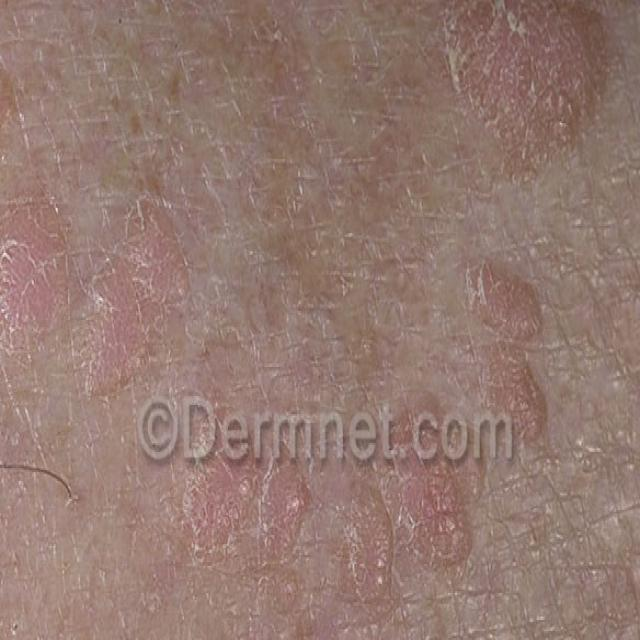Warts: (178, 400, 472, 619), (0, 47, 187, 365), (433, 7, 627, 206), (452, 240, 557, 441)
